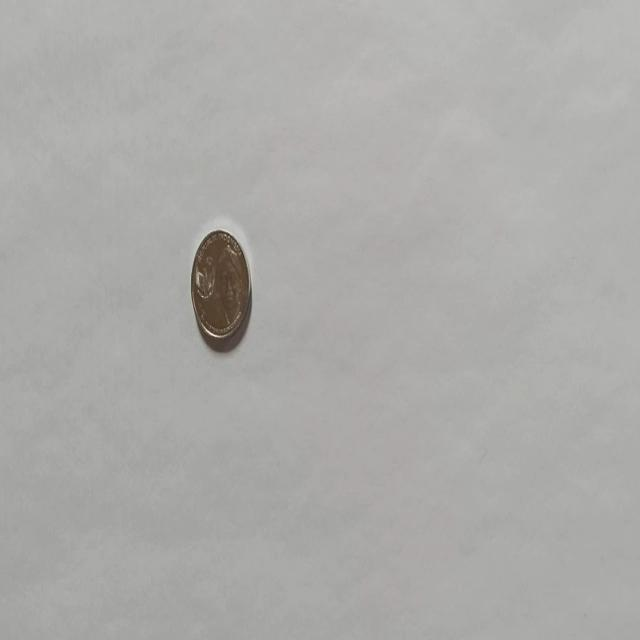dua ratus rupiah: (190, 228, 252, 342)
